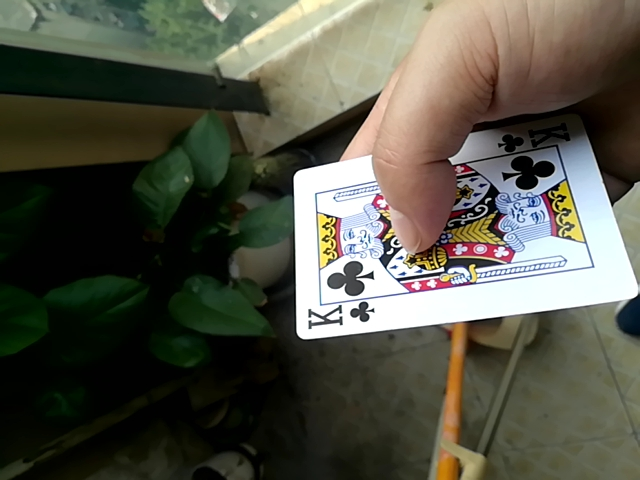mh k: (285, 127, 632, 342)
